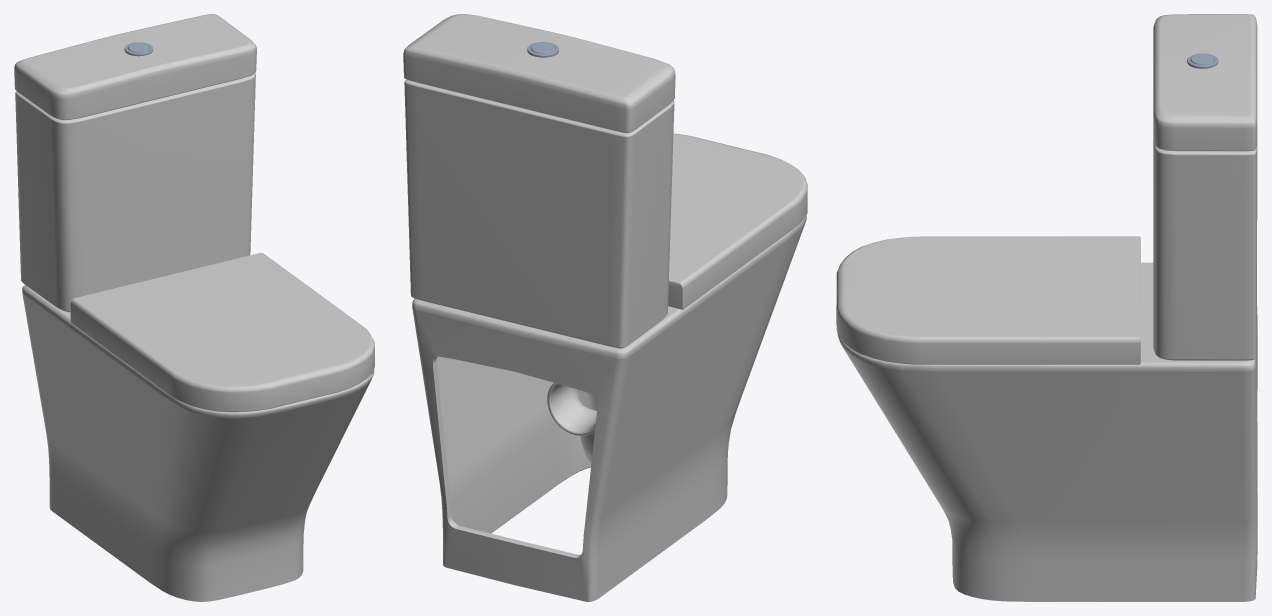
File: roca_gap_toilet.glb
3 views of the same model, side by side, from view 1: azimuth 30°, elevation 25°; view 2: azimuth 150°, elevation 25°; view 3: azimuth 270°, elevation 25° (orthographic). The views are drawn at different scales.
Parts seen in each view (by area): view 1: water_tank_gap, roca_gap, cover_gap; view 2: water_tank_gap, roca_gap, cover_gap; view 3: roca_gap, cover_gap, water_tank_gap.
Part boxes in pixels (x1,y1,x2,y2): water_tank_gap: (14,14,256,312); roca_gap: (22,285,374,601); cover_gap: (70,253,374,412); water_tank_gap: (403,14,675,348); roca_gap: (412,214,806,601); cover_gap: (668,133,807,309); roca_gap: (836,262,1257,601); cover_gap: (836,236,1140,364); water_tank_gap: (1153,14,1257,360).
Bounding box in the file's own units: 0.3703 × 0.7966 × 0.5995.
Materials: 1 (1 with a texture image).
